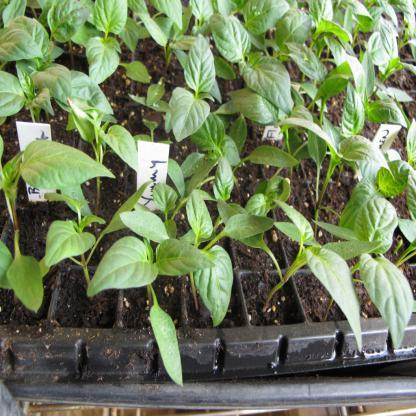Bell_pepper leaf spot: (306, 249, 366, 358), (358, 250, 413, 360), (23, 138, 119, 188), (86, 237, 152, 299), (238, 52, 292, 112), (197, 245, 232, 325), (113, 204, 173, 249), (158, 240, 216, 283), (353, 199, 399, 253), (335, 134, 394, 176), (183, 26, 219, 93), (163, 87, 209, 136), (208, 12, 254, 60), (6, 256, 44, 312), (280, 116, 338, 152), (48, 217, 94, 261), (32, 62, 72, 111), (224, 212, 278, 242), (1, 29, 46, 65), (273, 6, 310, 48), (86, 41, 121, 82), (186, 189, 214, 238), (93, 1, 130, 38), (1, 68, 25, 114), (215, 150, 233, 204)
